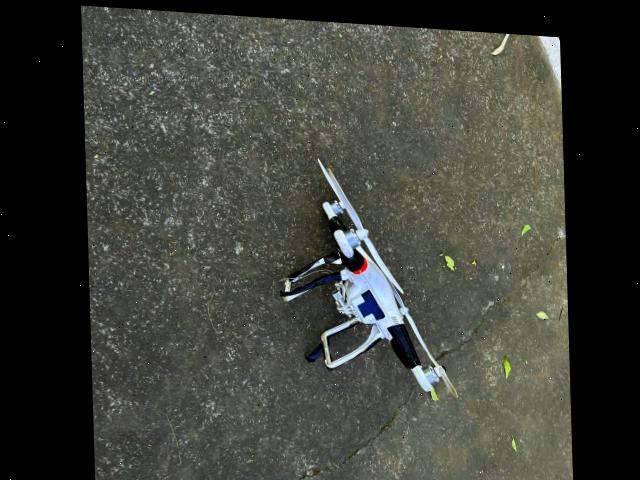drone: (269, 153, 461, 400)
